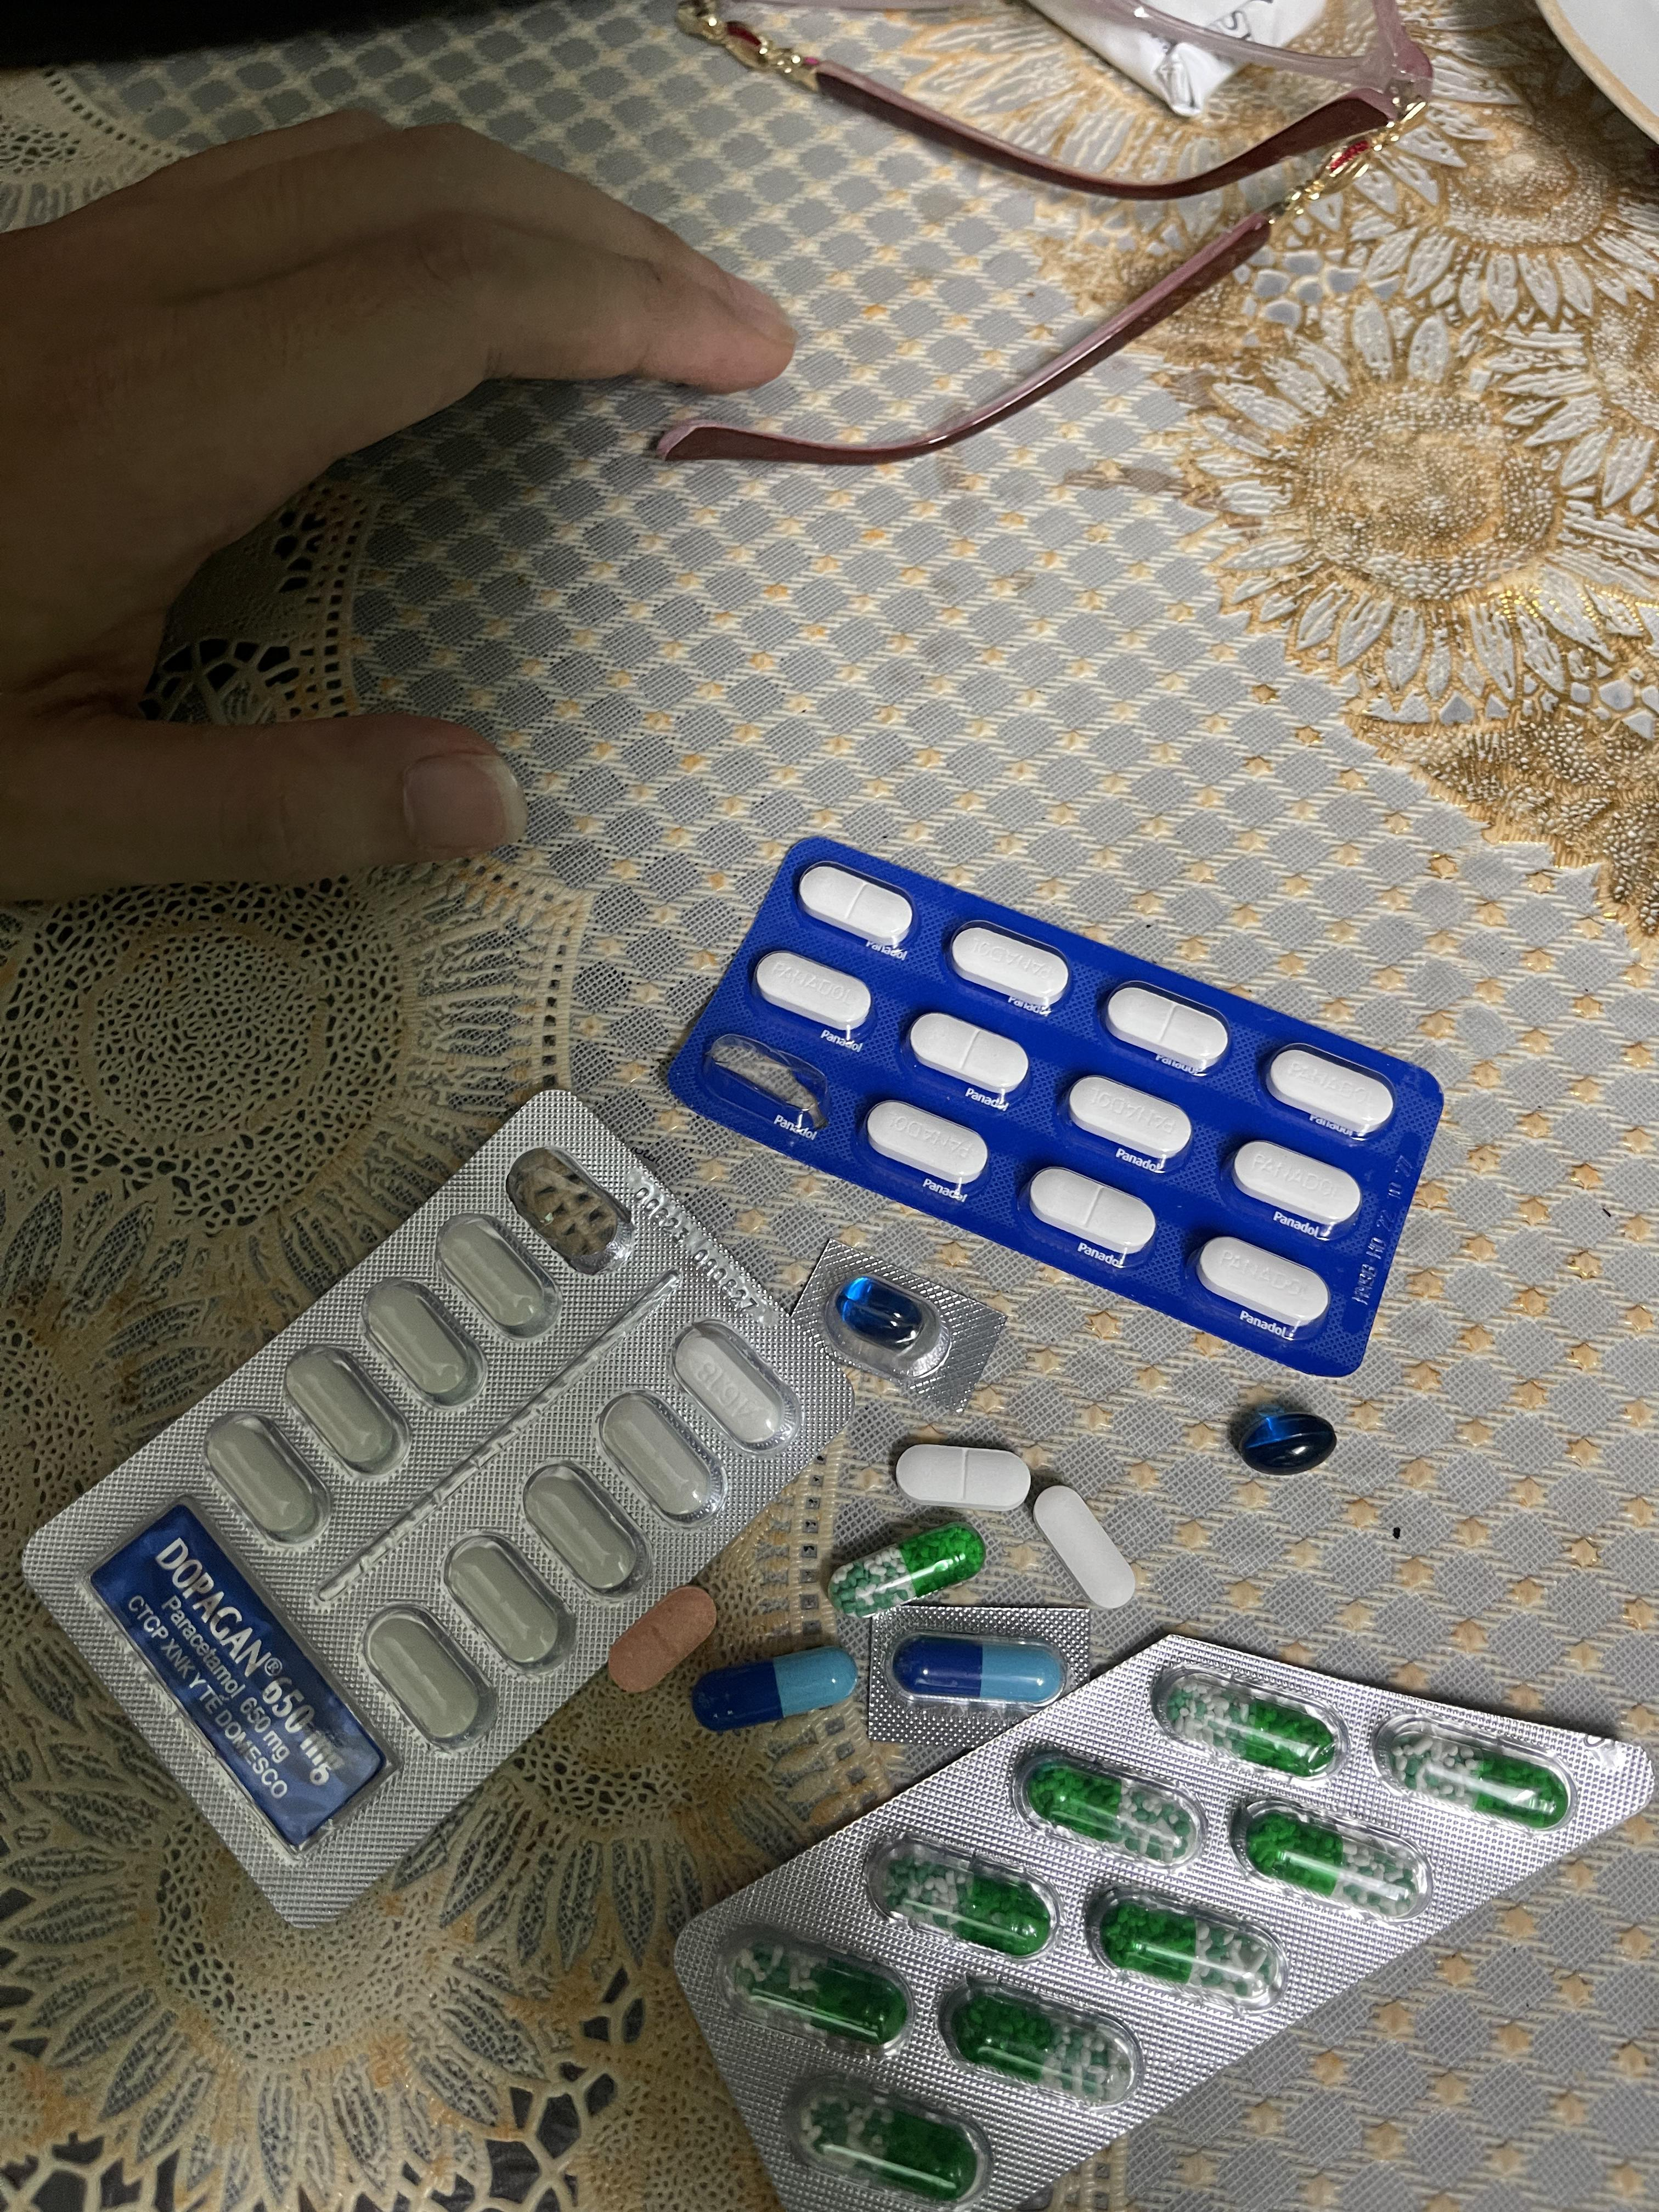Lincomyxin_500mg: (1235, 1401, 1338, 1474), (835, 1277, 929, 1355)
Loratadine_10mg: (609, 1583, 718, 1694)
Paracetamol_350mg: (1265, 1047, 1401, 1138), (1194, 1237, 1329, 1328), (1229, 1139, 1363, 1230), (1065, 1075, 1195, 1165), (1031, 1166, 1160, 1254), (1104, 985, 1232, 1074), (947, 924, 1072, 1012), (865, 1099, 989, 1187), (756, 950, 874, 1038), (907, 1012, 1028, 1096), (797, 864, 913, 949), (897, 1443, 1030, 1510)
Paracetamol_500mg: (362, 1604, 496, 1750), (203, 1409, 331, 1550), (442, 1532, 573, 1669), (598, 1392, 727, 1531), (283, 1341, 408, 1480), (524, 1460, 651, 1596), (362, 1275, 487, 1410), (436, 1213, 562, 1340), (673, 1323, 794, 1453), (1032, 1486, 1134, 1610)
Paracetamol_650mg: (944, 1979, 1137, 2106), (1374, 1713, 1583, 1830), (789, 2079, 982, 2205), (1233, 1798, 1426, 1920), (869, 1835, 1057, 1956), (727, 1926, 901, 2056), (1092, 1888, 1280, 2007), (1014, 1748, 1200, 1863), (1154, 1668, 1341, 1778), (825, 1521, 985, 1616)
pill: (699, 1643, 845, 1731), (891, 1635, 1066, 1705)
